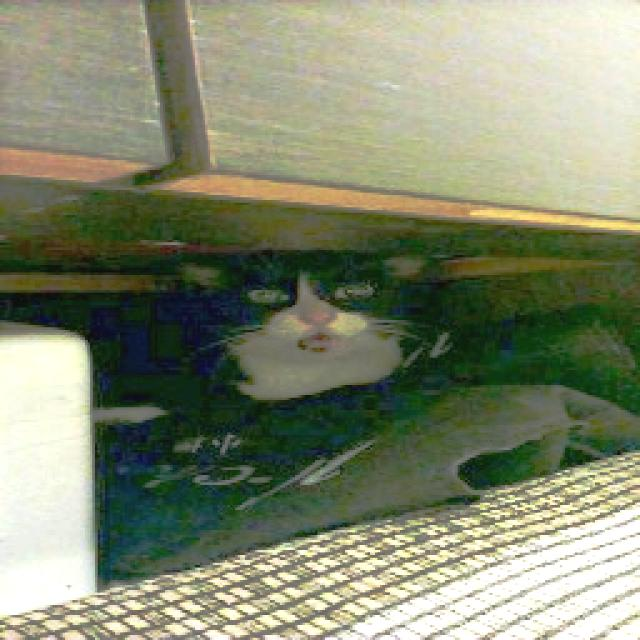cat: (138, 212, 488, 460)
